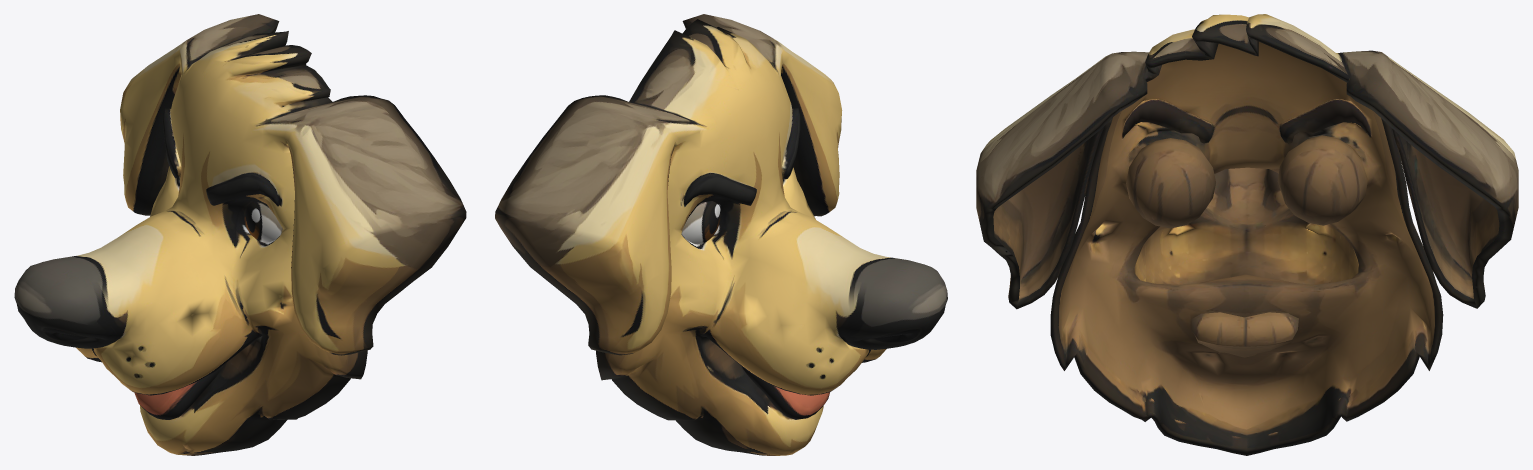
File: buggy-dog.glb
3 views of the same model, side by side, from view 1: azimuth 30°, elevation 25°; view 2: azimuth 150°, elevation 25°; view 3: azimuth 270°, elevation 25° (orthographic). The views are drawn at different scales.
Visible parts, largest first — view 1: tripo_node_8d6dc335-3e1e-4e8a-9dee-bcb8db18fa99; view 2: tripo_node_8d6dc335-3e1e-4e8a-9dee-bcb8db18fa99; view 3: tripo_node_8d6dc335-3e1e-4e8a-9dee-bcb8db18fa99.
Boxes of the visible parts, x1,y1,x2,y2 form: tripo_node_8d6dc335-3e1e-4e8a-9dee-bcb8db18fa99: [14, 14, 466, 455]; tripo_node_8d6dc335-3e1e-4e8a-9dee-bcb8db18fa99: [495, 14, 947, 455]; tripo_node_8d6dc335-3e1e-4e8a-9dee-bcb8db18fa99: [976, 14, 1518, 455].
Size of the model in its own units: 0.3481 by 0.4 by 0.4146.
1 material, 1 textured.
